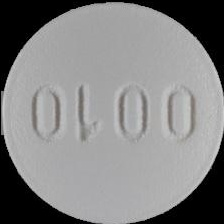0093-0010: (0, 0, 224, 224)
